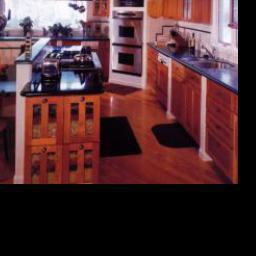Electrodomestico: (112, 8, 142, 78)
Lavaplatos: (190, 47, 237, 74)
